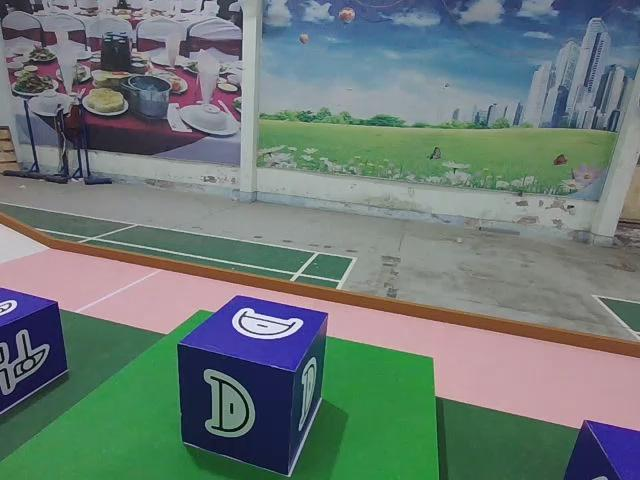R2 Real Blue: (177, 292, 330, 474), (0, 291, 68, 431)
